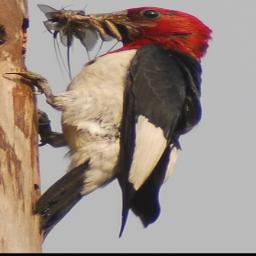Woodpecker: (6, 6, 212, 241)
